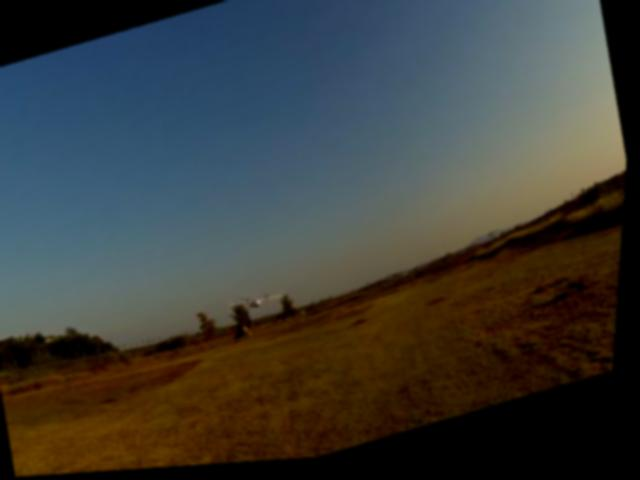uav: (215, 273, 297, 329)
